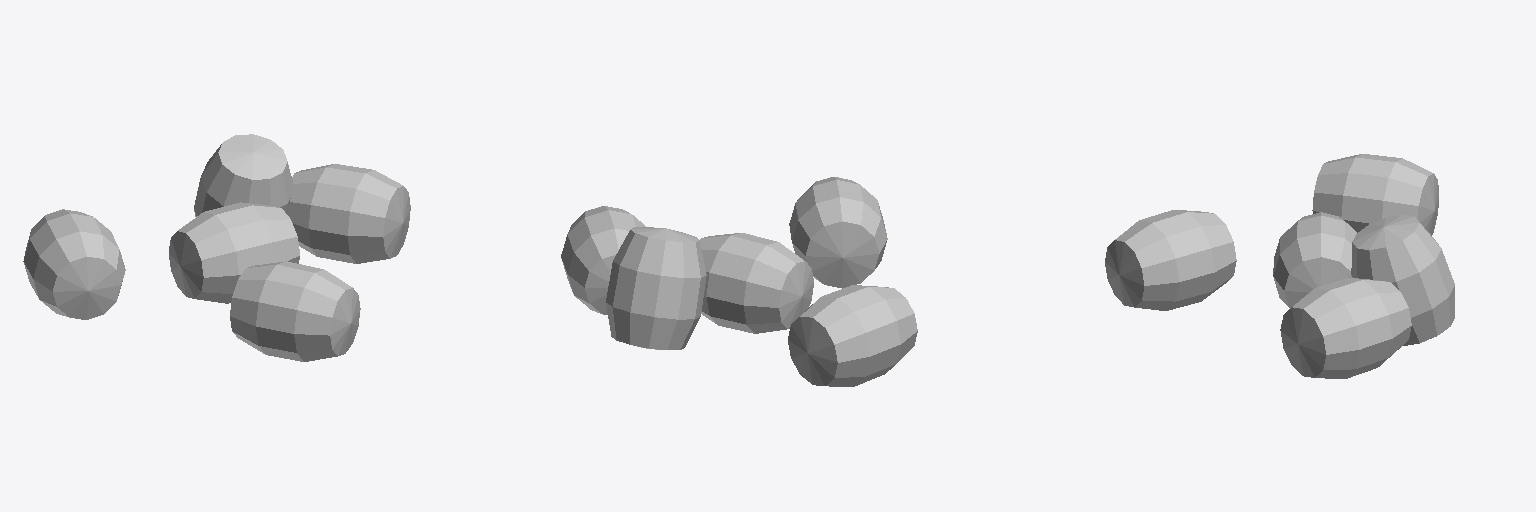
The model's file is Shit02.obj.
The picture shows the model from 3 angles: view 1: azimuth 30°, elevation 25°; view 2: azimuth 150°, elevation 25°; view 3: azimuth 270°, elevation 25°; orthographic projection.
Visible parts, largest first — view 1: Shit02_Circle; view 2: Shit02_Circle; view 3: Shit02_Circle.
Boxes of the visible parts, box(x1,y1,x2,y2) form: Shit02_Circle: box(23, 134, 410, 361); Shit02_Circle: box(561, 177, 917, 386); Shit02_Circle: box(1105, 154, 1454, 378).
Size of the model in its own units: 2.71 by 0.8385 by 2.31.